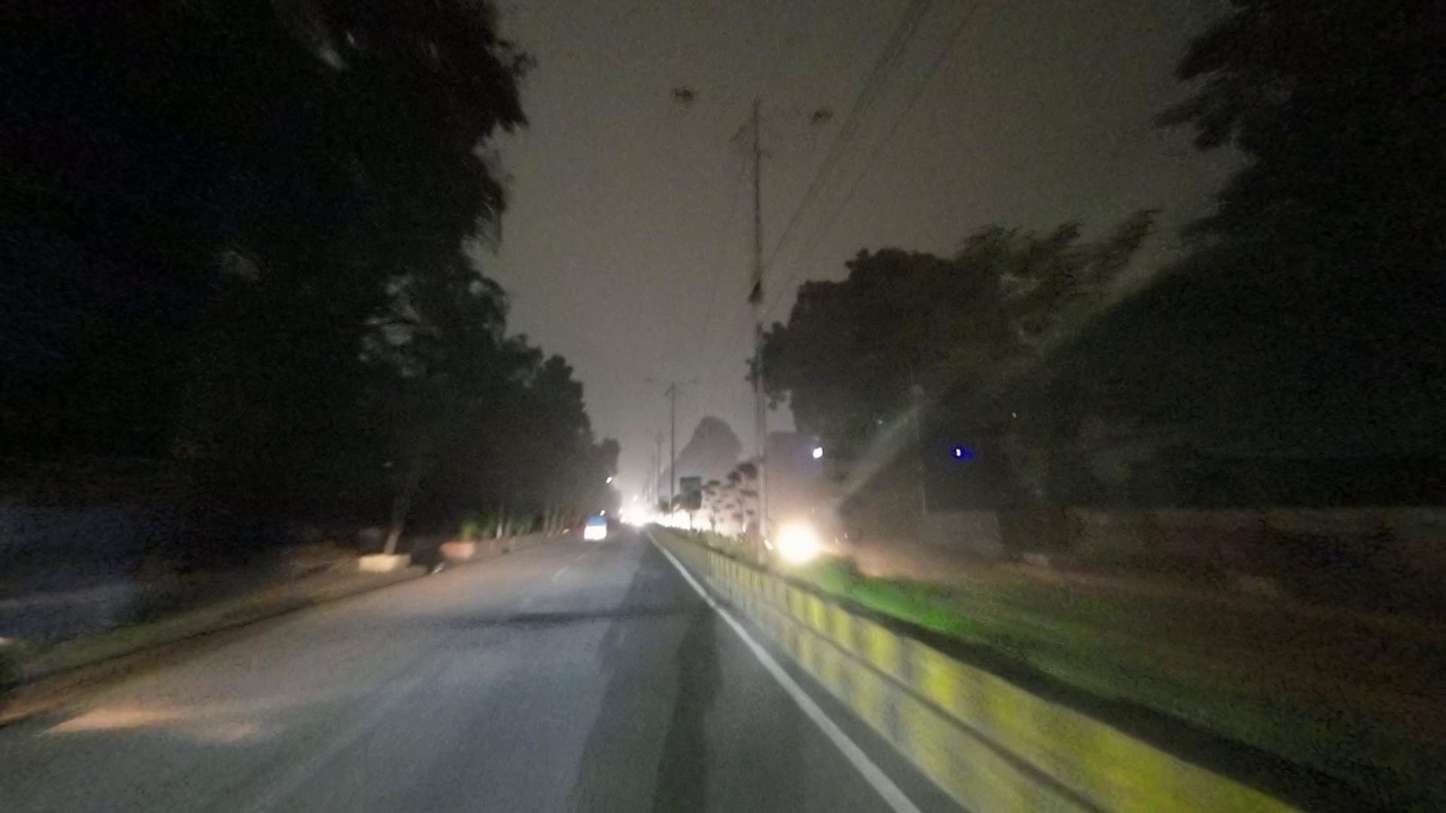streetlight: (668, 81, 753, 123), (765, 99, 836, 133)
